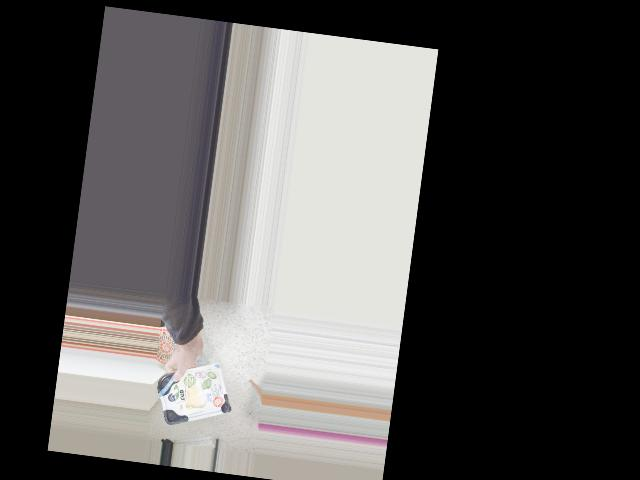cheese: (162, 363, 228, 418)
